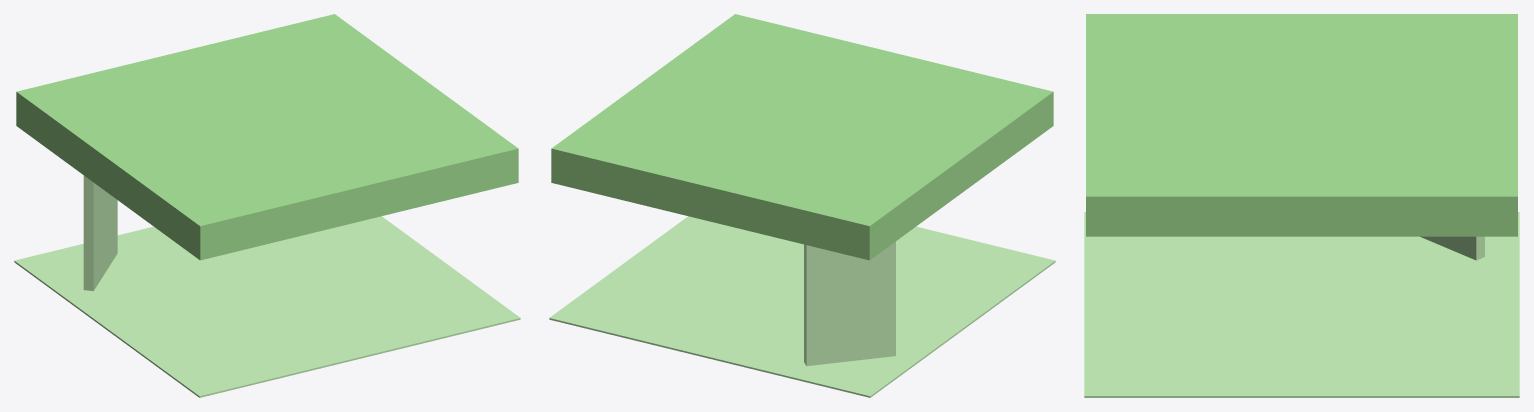
File: stand.gltf
3 renders of one model, left to right at view 1: azimuth 30°, elevation 25°; view 2: azimuth 150°, elevation 25°; view 3: azimuth 270°, elevation 25°, orthographic. The views are drawn at different scales.
Parts seen in each view (by area): view 1: techo, piso, panel; view 2: techo, piso, panel; view 3: techo, piso, panel.
Part boxes in pixels (x1=…): techo: x1=16, y1=14, x2=518, y2=260; piso: x1=14, y1=216, x2=520, y2=397; panel: x1=83, y1=175, x2=117, y2=291; techo: x1=551, y1=14, x2=1053, y2=260; piso: x1=549, y1=216, x2=1055, y2=397; panel: x1=804, y1=241, x2=895, y2=365; techo: x1=1086, y1=14, x2=1517, y2=236; piso: x1=1084, y1=212, x2=1519, y2=397; panel: x1=1420, y1=236, x2=1484, y2=260.
Bounding box in the file's own units: 4 × 2.03 × 4.
